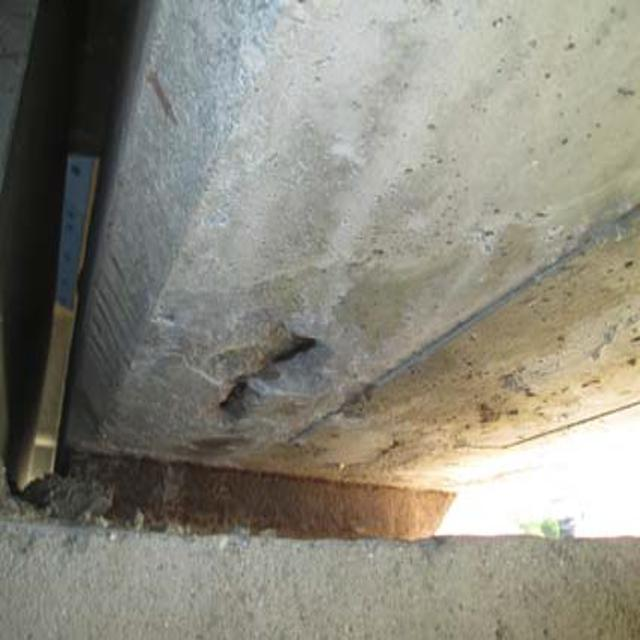spalling: (184, 322, 367, 448)
